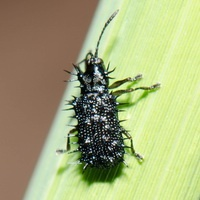insect: (56, 9, 159, 170)
